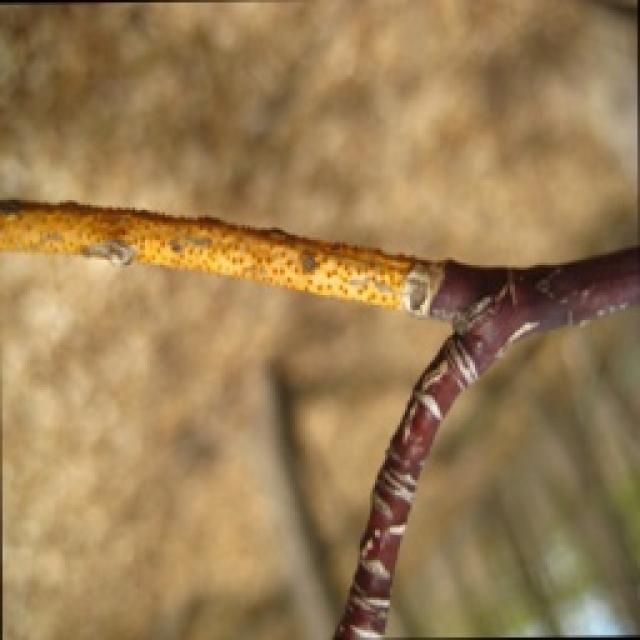Golden_canker: (0, 192, 445, 320)
